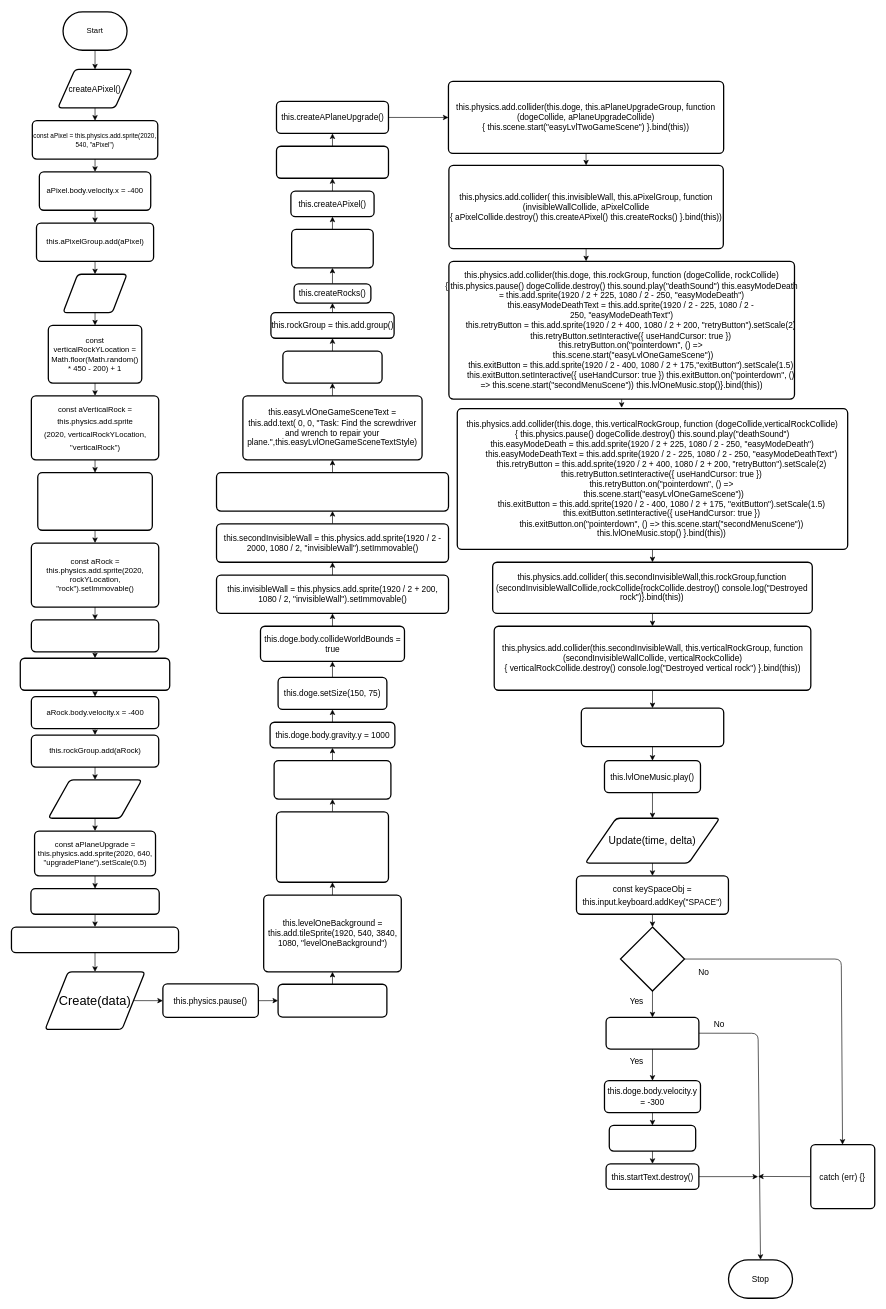
Some shapes in this 886 by 1309 pixel diagram are drawn without their labels. Here are the shapes that lost their labels. From the top down, the centre of each, then its label:
point (332, 162): this.aPlaneUpgradeGroup = this.add.group()
point (332, 248): this.aPixelGroup = this.add.group()
point (94, 293): createRocks()
point (332, 366): this.verticalRockGroup = this.add.group()
point (95, 501): const rockYLocation = Math.floor(verticalRockYLocation + 1000) + 1
point (332, 491): this.startText = this.add .sprite(1920 / 2, 1080 / 2, "startText") .setScale(2)
point (94, 635): aVerticalRock.body.velocity.x = -400
point (94, 674): this.verticalRockGroup.add(aVerticalRock)
point (652, 727): this.lvlOneMusic = this.sound.add("lvlOneMusic" { volume: 0.2, loop: true, })
point (94, 799): createAPlaneUpgrade()
point (332, 779): this.doge.body.bounce.y = 0.4
point (332, 847): this.doge = this.physics.add.sprite(1920 / 2 - 450, 1080 / 2, "doge")
point (95, 901): aPlaneUpgrade.body.velocity.x = -25
point (94, 939): this.aPlaneUpgradeGroup.add(aPlaneUpgrade)
point (652, 958): try
point (332, 1000): this.game.sound.stopAll()
point (652, 1032): if (keySpaceObj.isDown === true)
point (652, 1137): this.physics.resume()
